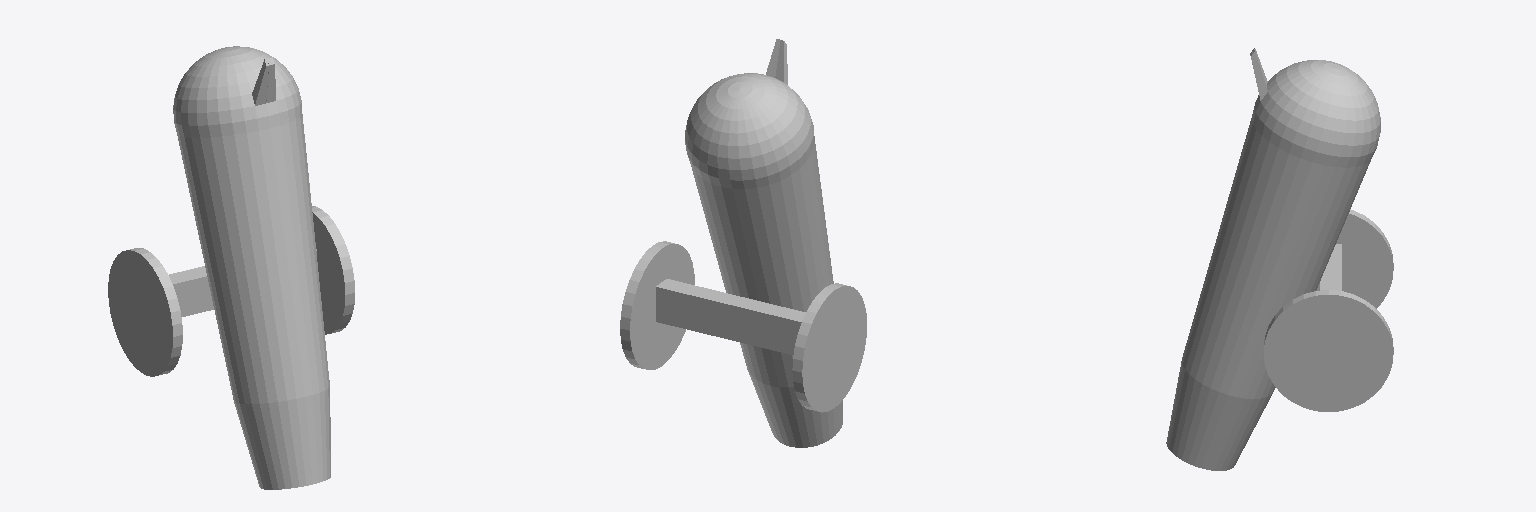
File: Cannon.obj
3 views of the same model, side by side, from view 1: azimuth 30°, elevation 25°; view 2: azimuth 150°, elevation 25°; view 3: azimuth 270°, elevation 25° (orthographic).
Visible parts, largest first — view 1: Sphere_Sphere.001; view 2: Sphere_Sphere.001; view 3: Sphere_Sphere.001.
Boxes of the visible parts, x1=… form: Sphere_Sphere.001: x1=108, y1=46, x2=354, y2=489; Sphere_Sphere.001: x1=620, y1=39, x2=866, y2=447; Sphere_Sphere.001: x1=1166, y1=48, x2=1393, y2=470.
Size of the model in its own units: 0.0309 by 0.067 by 0.0333.